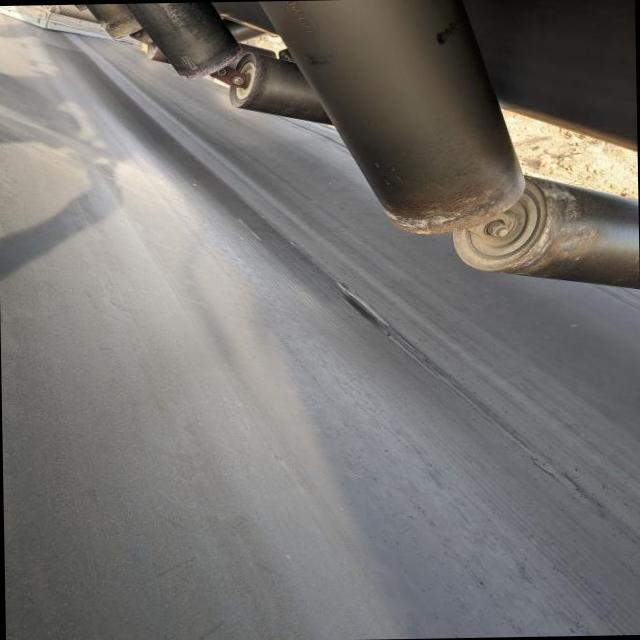Impact Damage: (332, 281, 394, 340)
